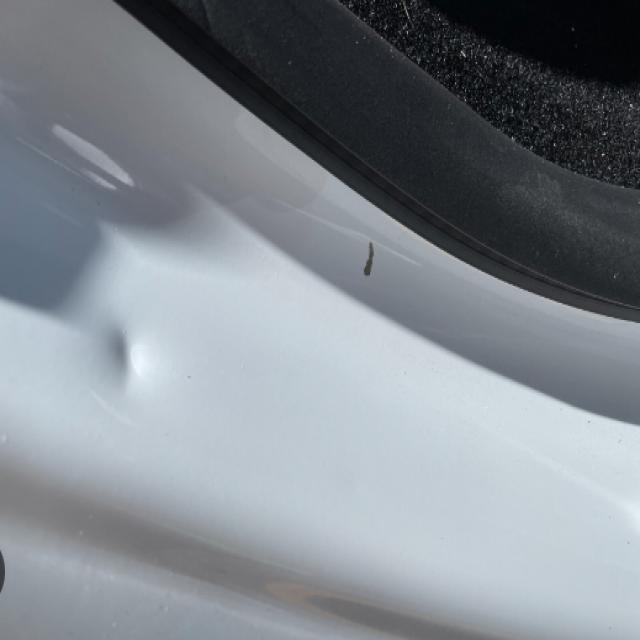dents: (82, 298, 151, 419)
